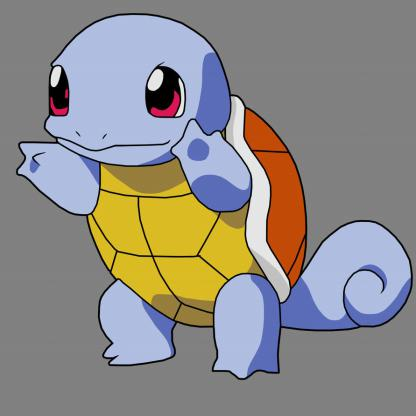Squirtle: (25, 1, 416, 391)
